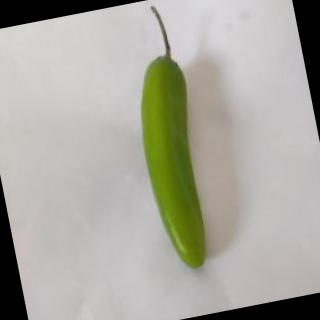Cabai Hijau: (114, 1, 228, 278)
